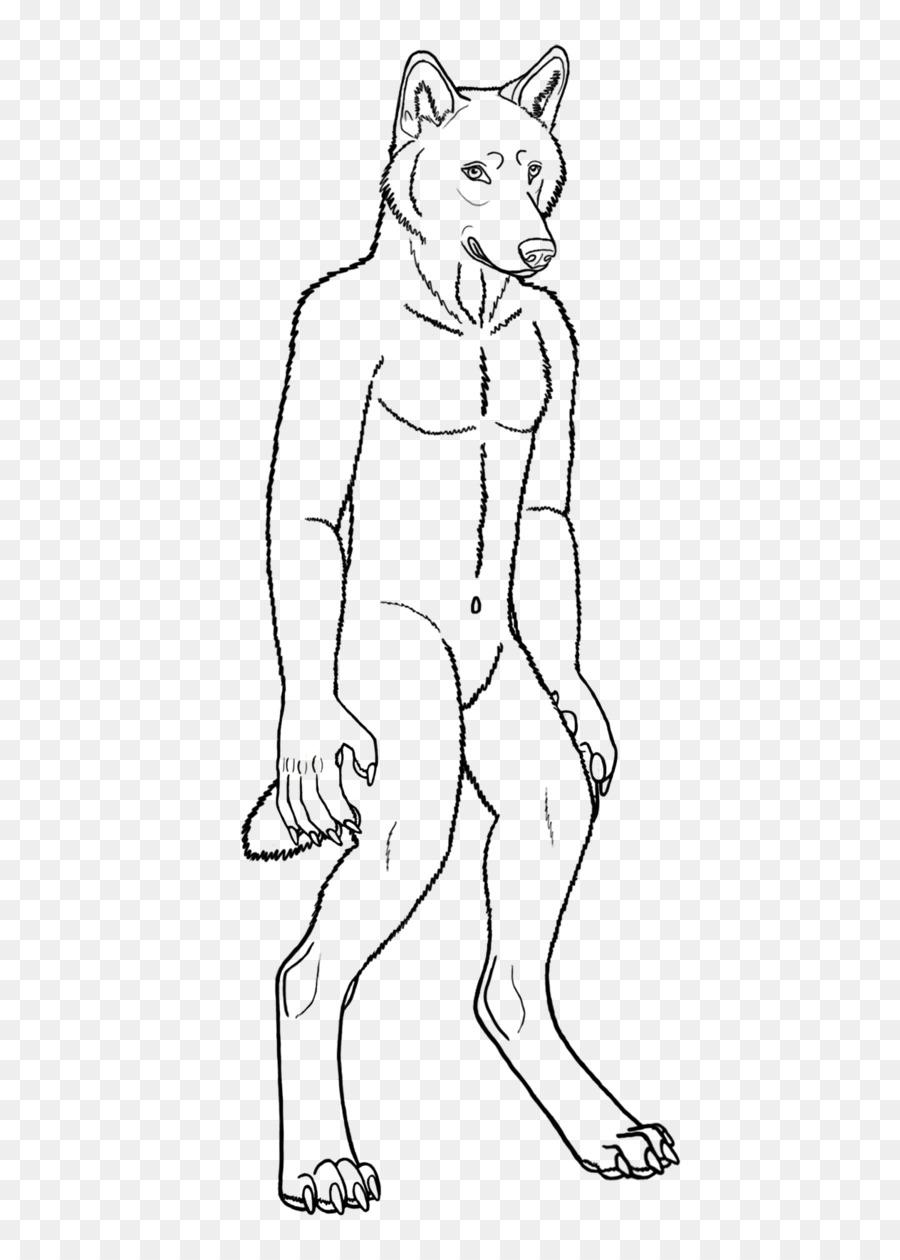Lobo: (196, 23, 646, 539)
